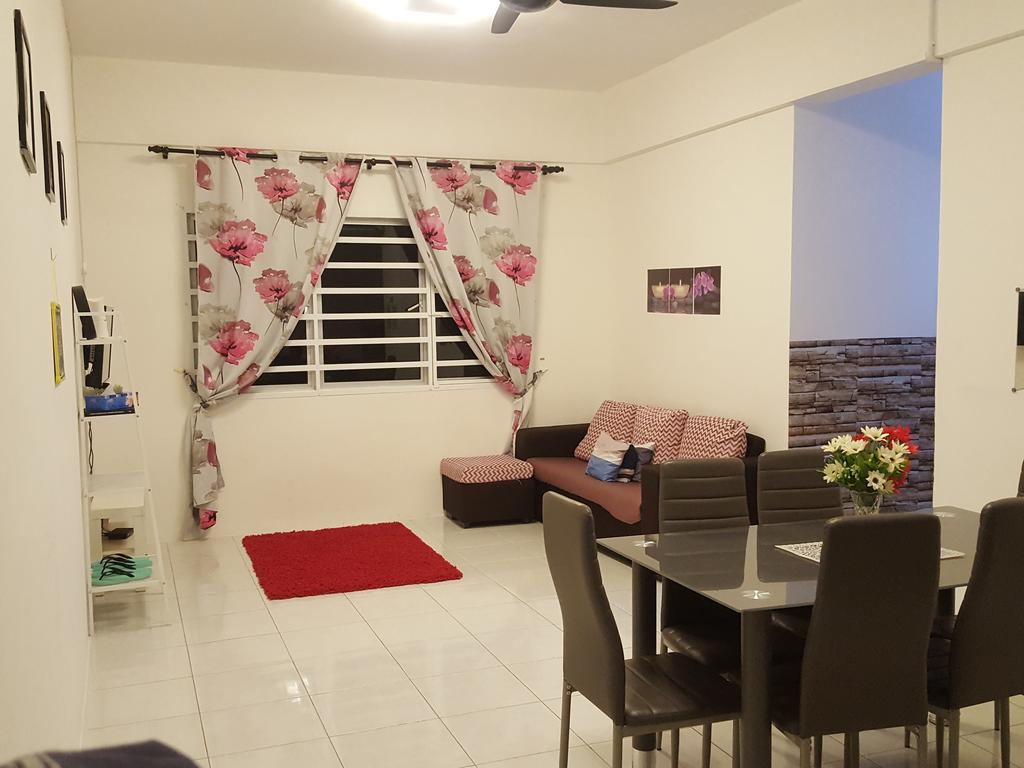kursi: (535, 490, 737, 767), (533, 488, 735, 765), (803, 508, 945, 766), (949, 495, 1024, 764)
tanaman: (819, 424, 917, 508)
